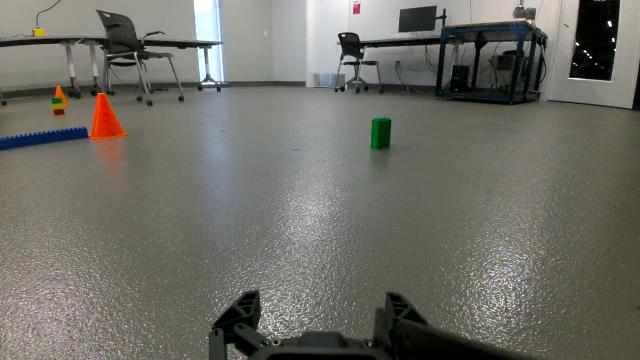lego: (358, 110, 394, 146)
